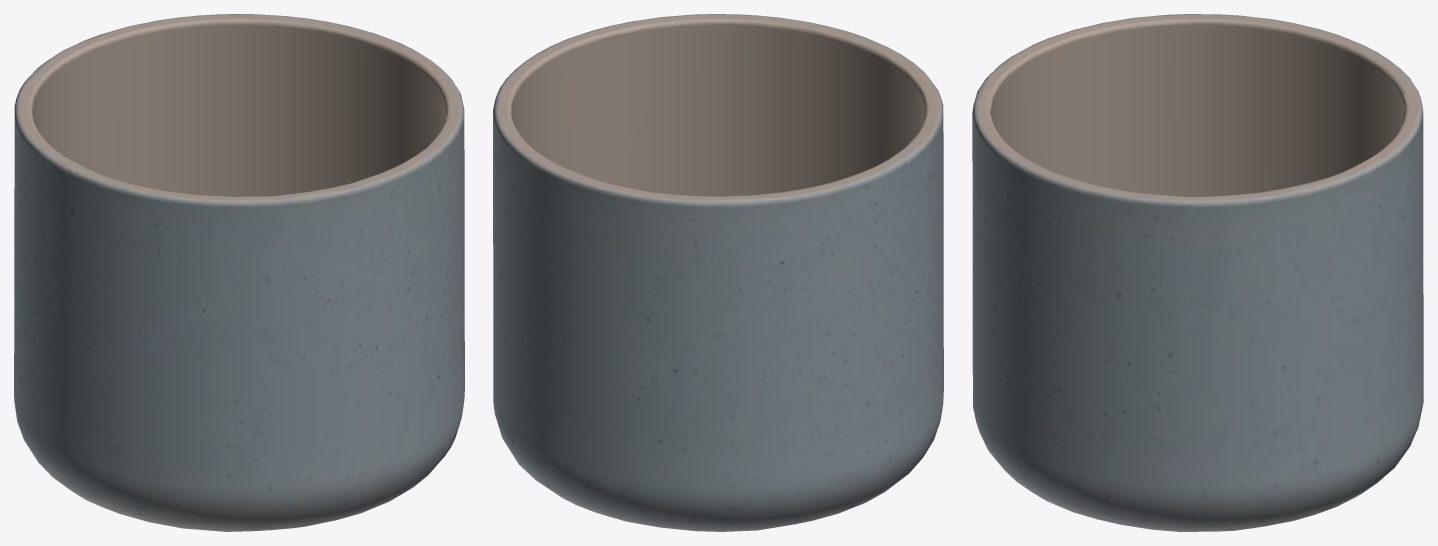
File: 19 - BUSKKAPRIFOL - 花盆，室內戶外用灰色，9 公分 IKEA 線上購物.glb
3 renders of one model, left to right at view 1: azimuth 30°, elevation 25°; view 2: azimuth 150°, elevation 25°; view 3: azimuth 270°, elevation 25°, orthographic.
Visible parts, largest first — view 1: ASY_ART_00595897_S01_NV01; view 2: ASY_ART_00595897_S01_NV01; view 3: ASY_ART_00595897_S01_NV01.
Boxes of the visible parts, x1,y1,x2,y2 form: ASY_ART_00595897_S01_NV01: (14,14,464,531); ASY_ART_00595897_S01_NV01: (493,14,943,531); ASY_ART_00595897_S01_NV01: (972,14,1423,531).
Bounding box in the file's own units: 0.1743 × 0.1501 × 0.1744.
1 material, 1 textured.
